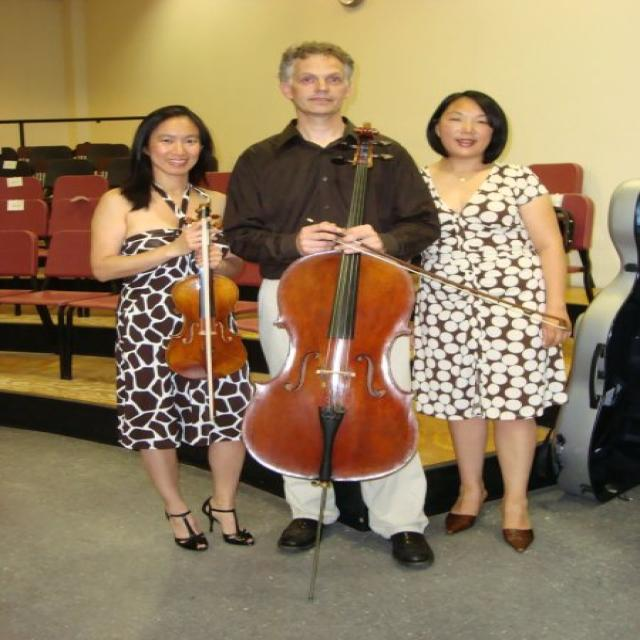cello: (234, 121, 432, 482)
violin: (162, 202, 245, 377)
